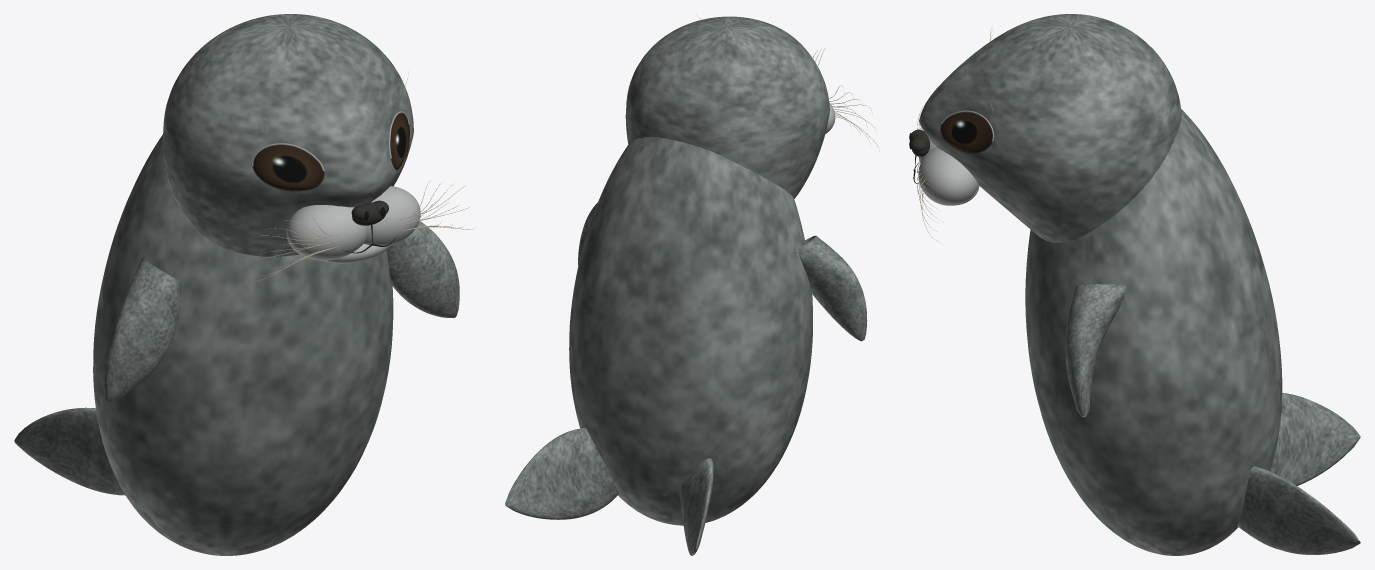
The model's file is seal-grey-juvenile.glb.
3 renders of one model, left to right at view 1: azimuth 30°, elevation 25°; view 2: azimuth 150°, elevation 25°; view 3: azimuth 270°, elevation 25°, orthographic. The views are drawn at different scales.
Parts seen in each view (by area): view 1: Body sculpted torpedo torso, Sculpted face and sensory whiskers, Webbed flipper (×3), Wet almond eye (×2), Soft chin; view 2: Body sculpted torpedo torso, Sculpted face and sensory whiskers, Webbed flipper (×3); view 3: Body sculpted torpedo torso, Sculpted face and sensory whiskers, Webbed flipper (×3), Wet almond eye.
Part boxes in pixels (x1,y1,x2,y2): Body sculpted torpedo torso: (93,134,393,555); Sculpted face and sensory whiskers: (162,14,475,284); Webbed flipper (×3): (14,221,459,495); Wet almond eye (×2): (253,113,409,190); Soft chin: (323,243,389,263); Body sculpted torpedo torso: (569,137,812,525); Sculpted face and sensory whiskers: (625,15,878,198); Webbed flipper (×3): (505,235,867,555); Body sculpted torpedo torso: (1025,109,1282,555); Sculpted face and sensory whiskers: (909,14,1181,243); Webbed flipper (×3): (1065,284,1360,554); Wet almond eye: (941,112,992,152).
Bounding box in the file's own units: 1.88 × 2.85 × 2.24.
Materials: 7 (2 with a texture image).
